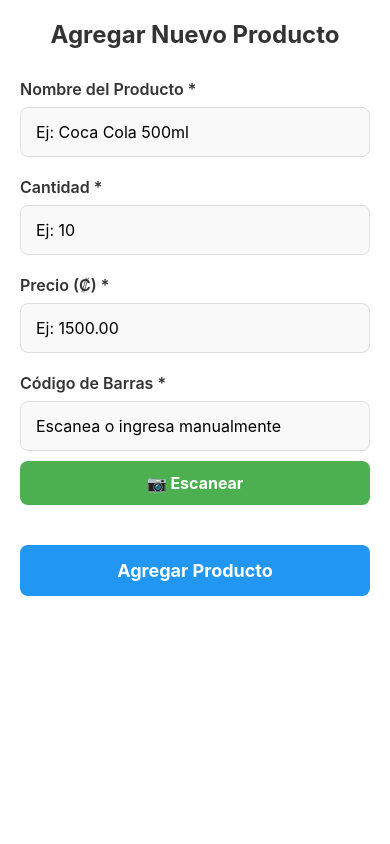
Test: AddProduct Component › should handle barcode scan
This screenshot has width=390, height=844.
Click the text "📷 Escanear".
click(195, 483)  # box [147,473,243,493]
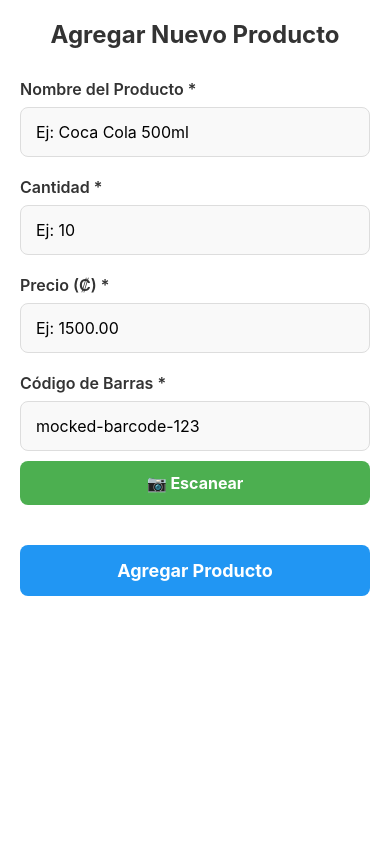
Check: the field with placeholder "Escanea o ingresa manualmente" holds "mocked-barcode-123", box [20,401,370,451]
